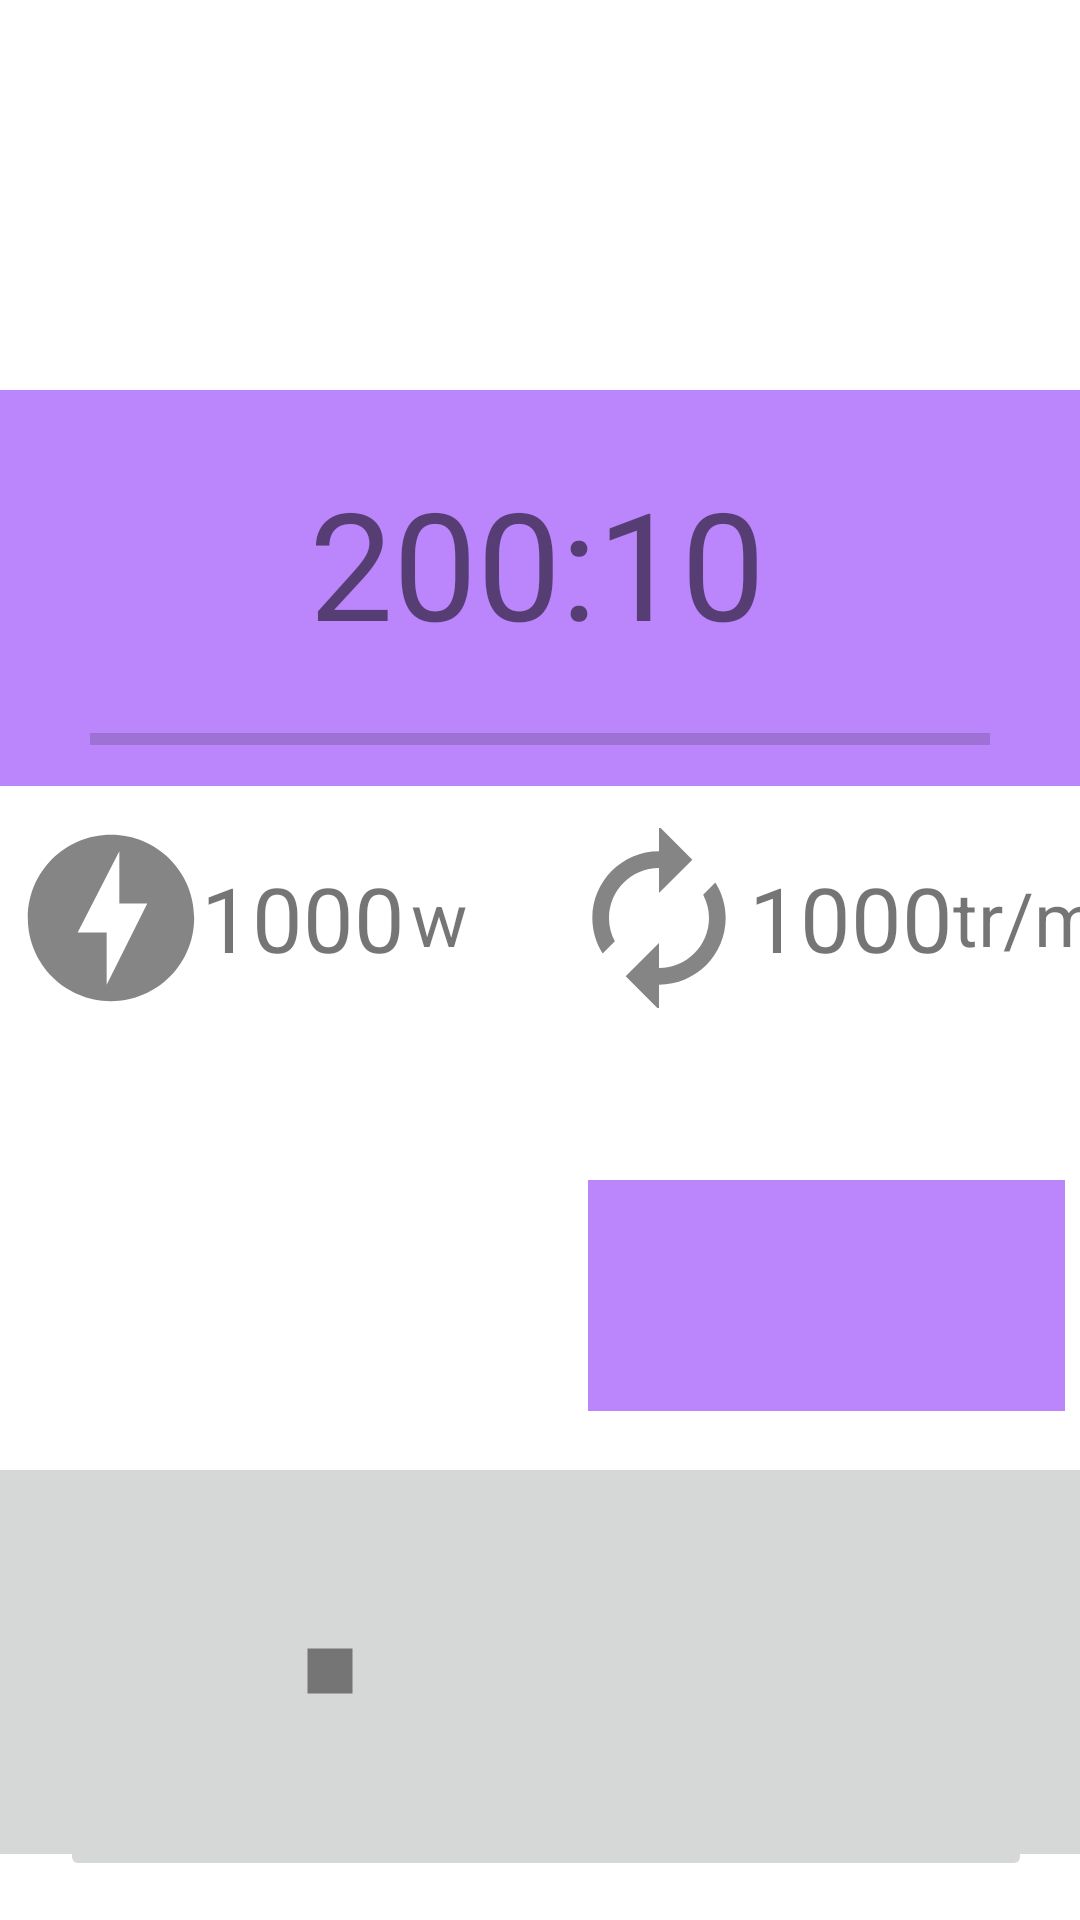

Icons on this 1080px×1920px Android screen, each with its box as (x1, y1, x2, y2):
power: (27, 834, 194, 1002)
